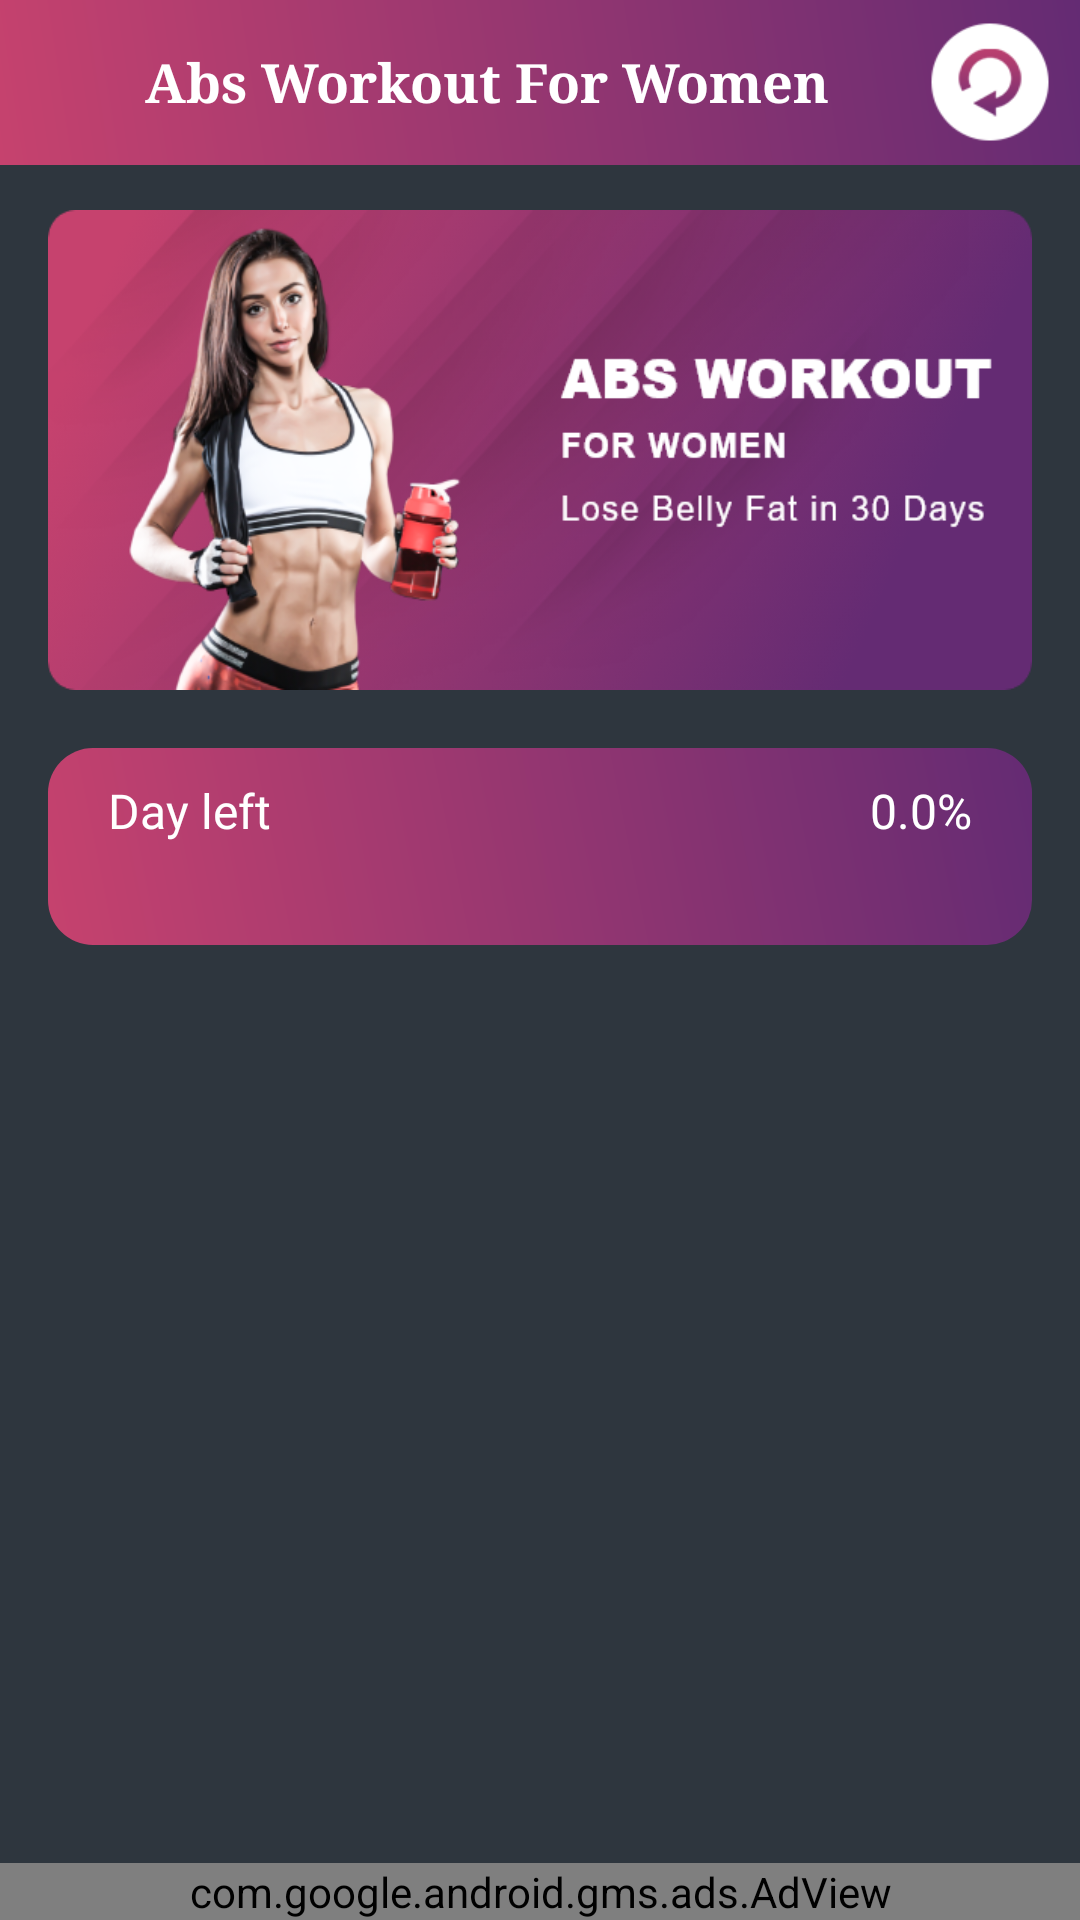

Icons on this 1080w x 1920h Android screen, each with the point to tap as (x=x, y=y):
restart: (x=990, y=82)
